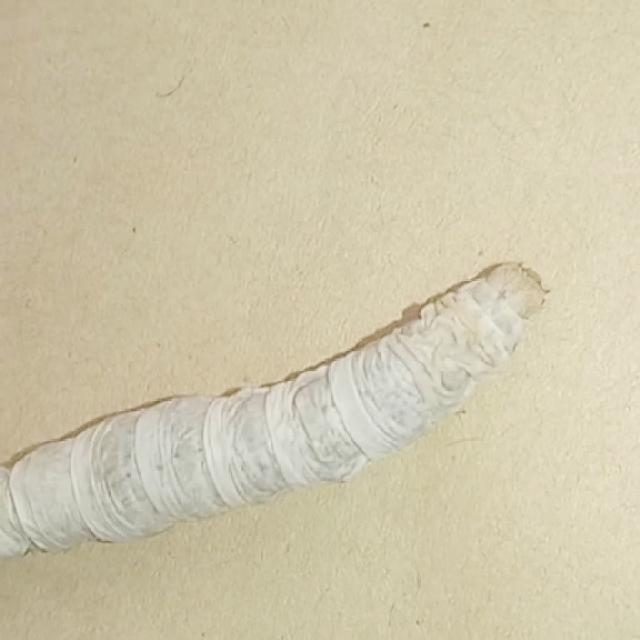Grasserie: (0, 228, 546, 572)
